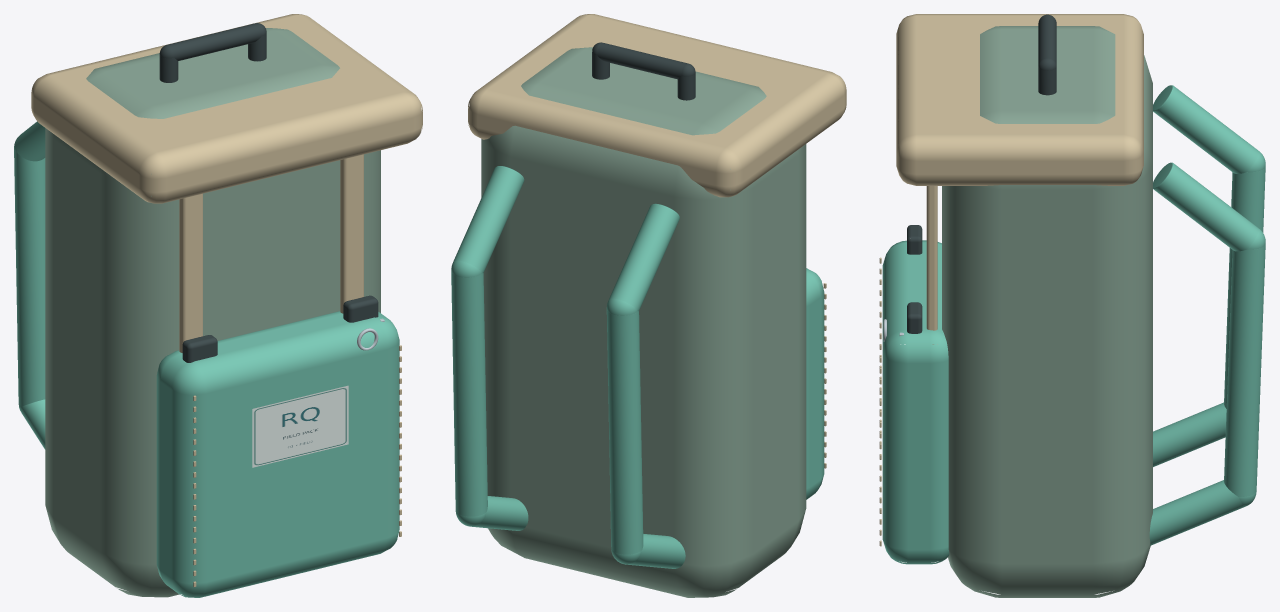
The model's file is field_backpack.glb.
3 views of the same model, side by side, from view 1: azimuth 30°, elevation 25°; view 2: azimuth 150°, elevation 25°; view 3: azimuth 270°, elevation 25° (orthographic). The views are drawn at different scales.
Visible parts, largest first — view 1: Backpack_Body, Front_Pocket, Top_Flap, Padded_Shoulder_Strap_Tube1, Pack_Identifier, Compression_Strap, Compression_Strap_2, Top_Handle_Tube1, Padded_Shoulder_Strap_Tube0, Pack_Buckle, Pack_Buckle_2, Padded_Shoulder_Strap_Tube2; view 2: Backpack_Body, Top_Flap, Padded_Shoulder_Strap_Tube1, Padded_Shoulder_Strap_Tube1_2, Front_Pocket, Padded_Shoulder_Strap_Tube0, Padded_Shoulder_Strap_Tube0_2, Top_Handle_Tube1, Padded_Shoulder_Strap_Tube2, Padded_Shoulder_Strap_Tube2_2; view 3: Backpack_Body, Top_Flap, Front_Pocket, Padded_Shoulder_Strap_Tube1_2, Padded_Shoulder_Strap_Tube0_2, Padded_Shoulder_Strap_Tube0, Padded_Shoulder_Strap_Tube2_2, Padded_Shoulder_Strap_Tube2, Padded_Shoulder_Strap_Tube1, Compression_Strap_2, Top_Handle_Tube1.
Part boxes in pixels (<box>): Backpack_Body: <box>45,28,380,597</box>; Front_Pocket: <box>156,311,399,597</box>; Top_Flap: <box>31,14,422,203</box>; Padded_Shoulder_Strap_Tube1: <box>14,149,45,406</box>; Pack_Identifier: <box>252,385,348,467</box>; Compression_Strap: <box>179,193,202,352</box>; Compression_Strap_2: <box>340,154,363,313</box>; Top_Handle_Tube1: <box>168,23,261,60</box>; Padded_Shoulder_Strap_Tube0: <box>15,121,45,161</box>; Pack_Buckle: <box>182,335,217,362</box>; Pack_Buckle_2: <box>343,295,378,322</box>; Padded_Shoulder_Strap_Tube2: <box>21,399,45,449</box>; Backpack_Body: <box>481,47,806,597</box>; Top_Flap: <box>468,14,846,197</box>; Padded_Shoulder_Strap_Tube1: <box>606,309,643,554</box>; Padded_Shoulder_Strap_Tube1_2: <box>451,272,487,516</box>; Front_Pocket: <box>806,268,824,499</box>; Padded_Shoulder_Strap_Tube0: <box>609,203,679,311</box>; Padded_Shoulder_Strap_Tube0_2: <box>453,166,524,273</box>; Top_Handle_Tube1: <box>597,43,686,79</box>; Padded_Shoulder_Strap_Tube2: <box>628,534,685,568</box>; Padded_Shoulder_Strap_Tube2_2: <box>472,496,528,530</box>; Backpack_Body: <box>942,26,1152,597</box>; Top_Flap: <box>896,14,1143,185</box>; Front_Pocket: <box>882,240,949,564</box>; Padded_Shoulder_Strap_Tube1_2: <box>1224,244,1265,496</box>; Padded_Shoulder_Strap_Tube0_2: <box>1153,162,1258,251</box>; Padded_Shoulder_Strap_Tube0: <box>1153,85,1258,173</box>; Padded_Shoulder_Strap_Tube2_2: <box>1149,480,1244,545</box>; Padded_Shoulder_Strap_Tube2: <box>1153,402,1226,466</box>; Padded_Shoulder_Strap_Tube1: <box>1224,166,1265,408</box>; Compression_Strap_2: <box>926,186,937,344</box>; Top_Handle_Tube1: <box>1038,16,1056,65</box>.
Bounding box in the file's own units: 0.35 × 0.62 × 0.426.
Materials: 6 (1 with a texture image).
